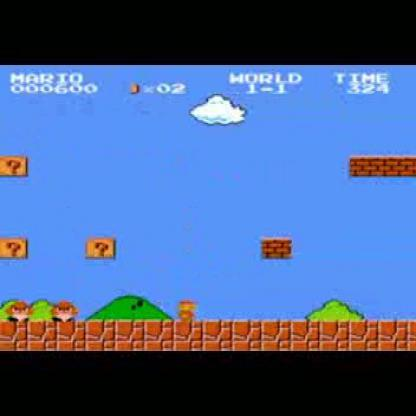Goomba: (52, 297, 83, 325), (4, 294, 33, 320)
